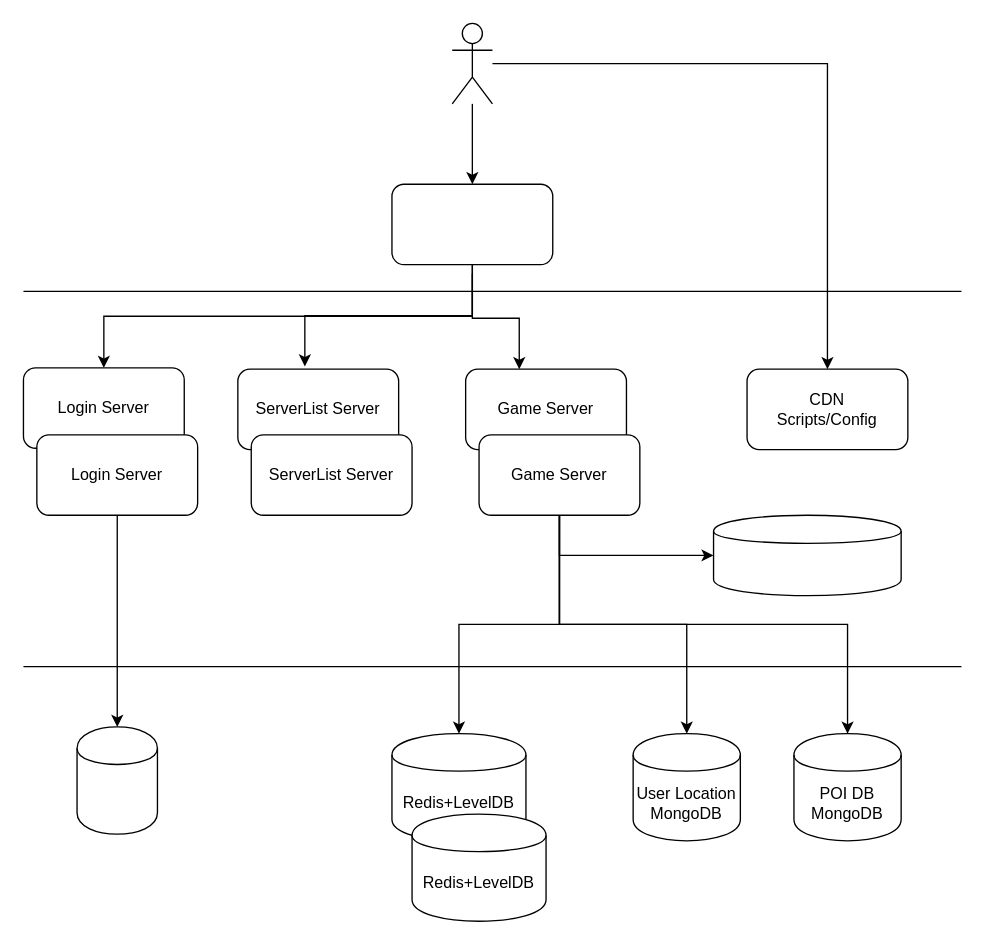
Some shapes in this 986 by 945 pixel diagram are drawn without their labels. Here are the shapes that lost their labels. From the top down, the centre of each, then its label:
At point (471, 63): "User".
At point (472, 224): "DNS LB".
At point (806, 555): "Cache".
At point (116, 780): "User DB Mysql".
